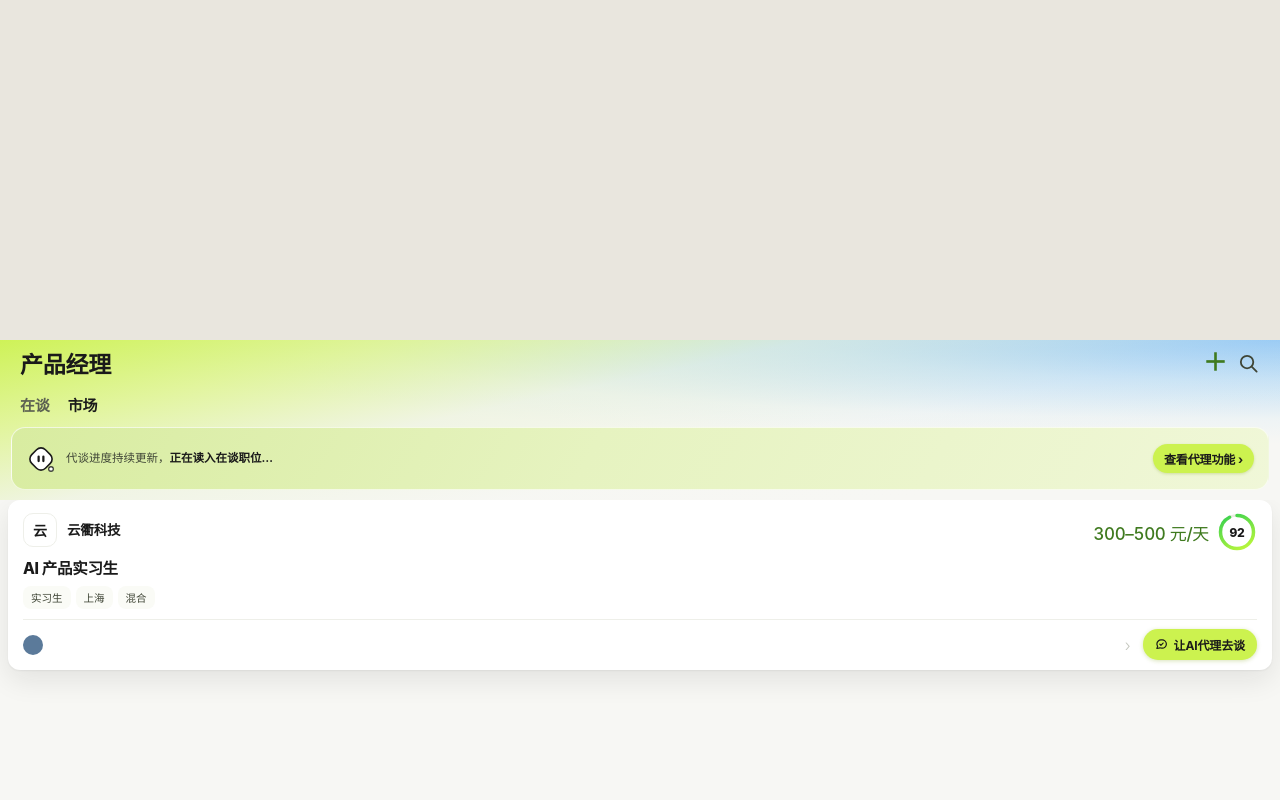
Scenario: 看市场 · P4 候选发现（Backend） › 取消确认零请求零状态变化
The width and height of the screenshot is (1280, 800).
(page scrolled)
Click the button "让AI代理去谈" at (1200, 644), box top-left (1142, 629), bottom-right (1257, 660)
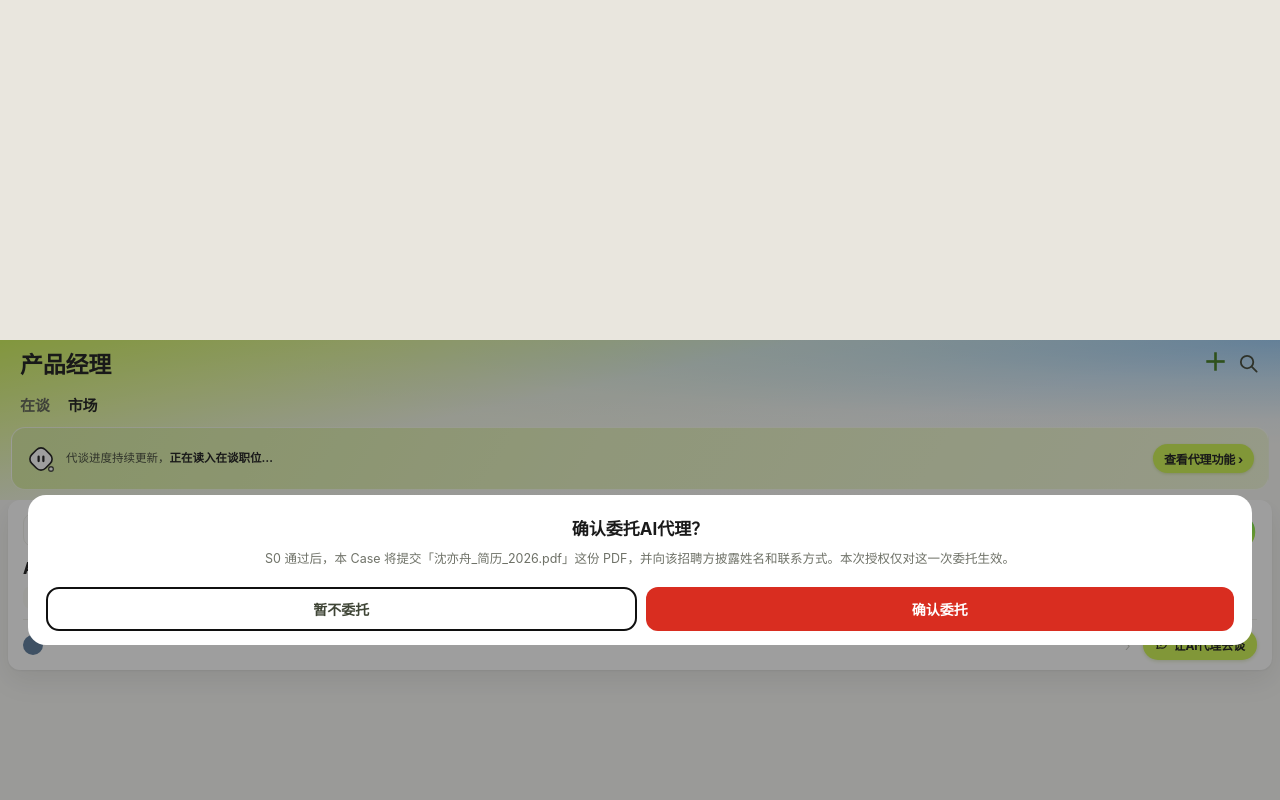
Check: the dialog "确认委托AI代理？" is shown, box top-left (28, 495), bottom-right (1252, 646)
Click the button "暂不委托" at (341, 609), box top-left (46, 587), bottom-right (636, 631)
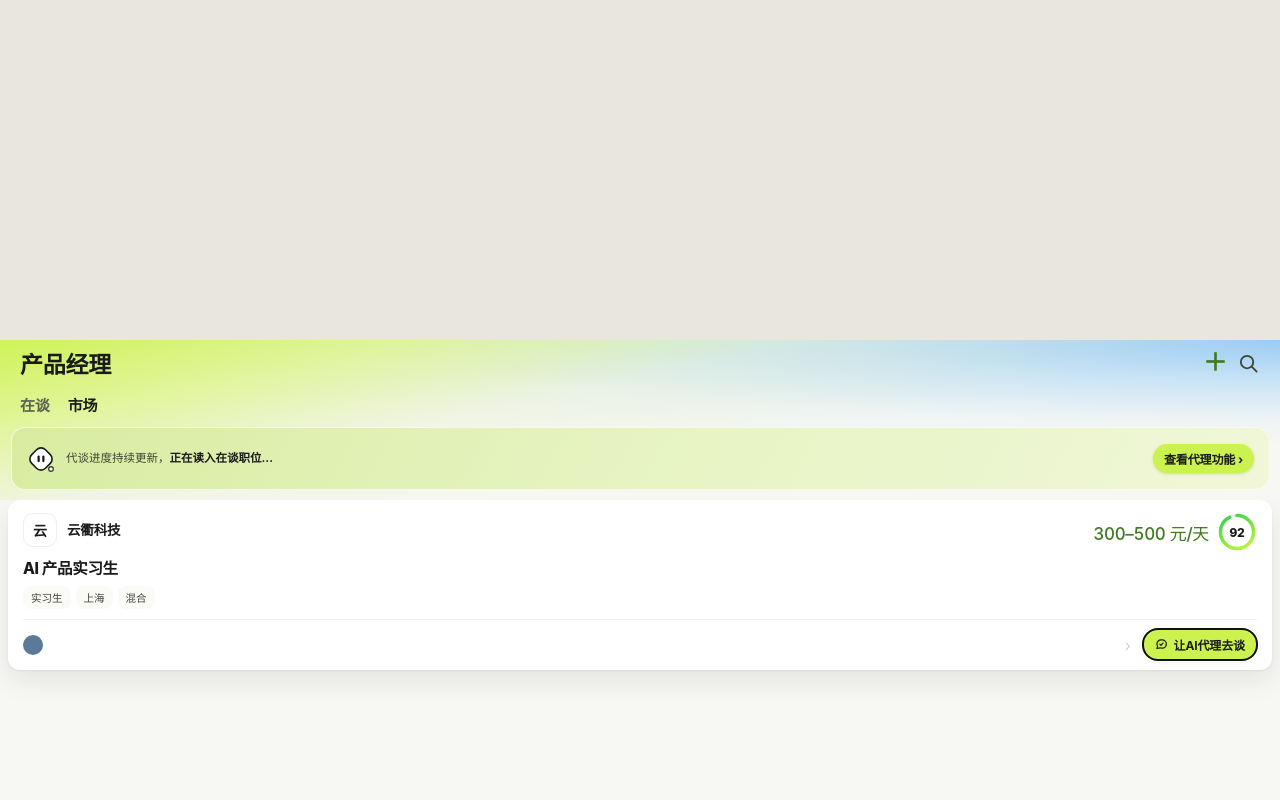
Check: the text "确认委托AI代理？" is gone
